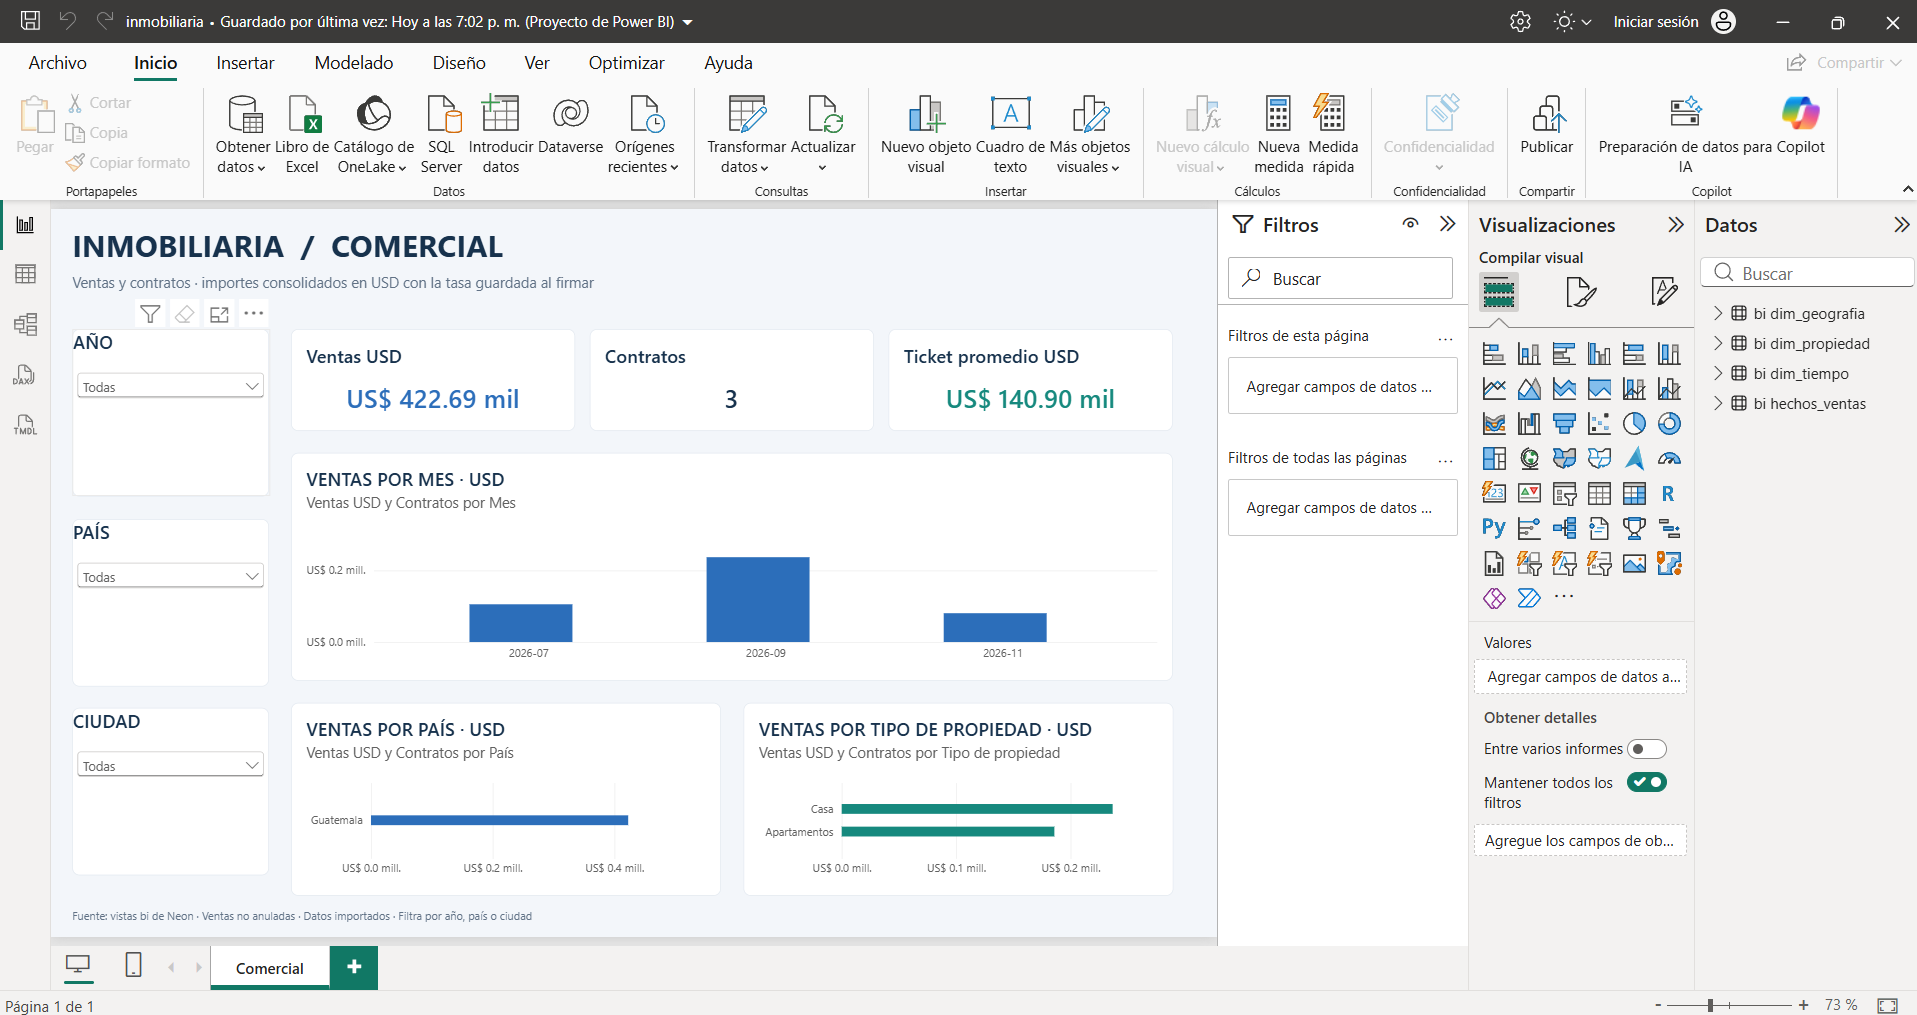

What the dashboard file says about the page in this screenshot:
{"tool":"powerbi","page":{"name":"Comercial","canvas":[1280,800],"ordinal":0},"visuals":[{"type":"textbox","box":[24,16,1120,50],"z":0},{"type":"textbox","box":[24,68,1216,40],"z":1000},{"type":"card","title":"Ventas USD","fields":{"Values":["bi hechos_ventas.Ventas USD"]},"box":[264,132,312,112],"z":2000},{"type":"card","title":"Contratos","fields":{"Values":["bi hechos_ventas.Contratos"]},"box":[592,132,312,112],"z":3000},{"type":"card","title":"Ticket promedio USD","fields":{"Values":["bi hechos_ventas.Ticket promedio USD"]},"box":[920,132,312,112],"z":4000},{"type":"clusteredColumnChart","title":"VENTAS POR MES · USD","fields":{"Category":["bi dim_tiempo.anio_mes"],"Y":["bi hechos_ventas.Ventas USD"]},"box":[263.5,255.2,968,250],"z":5000},{"type":"clusteredBarChart","title":"VENTAS POR PAÍS · USD","fields":{"Category":["bi dim_geografia.pais"],"Y":["bi hechos_ventas.Ventas USD"]},"box":[264,542,472,212],"z":6000},{"type":"clusteredBarChart","title":"VENTAS POR TIPO DE PROPIEDAD · USD","fields":{"Category":["bi dim_propiedad.tipo"],"Y":["bi hechos_ventas.Ventas USD"]},"box":[760,542,472,212],"z":7000},{"type":"slicer","title":"AÑO","fields":{"Values":["bi dim_tiempo.anio"]},"box":[24,132,216,184],"z":8000},{"type":"slicer","title":"PAÍS","fields":{"Values":["bi dim_geografia.pais"]},"box":[24,340,216,184],"z":9000},{"type":"slicer","title":"CIUDAD","fields":{"Values":["bi dim_geografia.ciudad"]},"box":[24,548,216,184],"z":10000},{"type":"textbox","box":[24,766,1216,26],"z":11000}]}

Visuals, with their boxes on the page's 1280x800 design canvas (x1, y1, x2, y2). These are canvas units, not pixel positions in the 1917x1015 screenshot, which may show the page scaled, cropped or inside an application window:
textbox: (x1=24, y1=16, x2=1144, y2=66)
textbox: (x1=24, y1=68, x2=1240, y2=108)
"Ventas USD" card: (x1=264, y1=132, x2=576, y2=244)
"Contratos" card: (x1=592, y1=132, x2=904, y2=244)
"Ticket promedio USD" card: (x1=920, y1=132, x2=1232, y2=244)
"VENTAS POR MES · USD" clusteredColumnChart: (x1=264, y1=255, x2=1232, y2=505)
"VENTAS POR PAÍS · USD" clusteredBarChart: (x1=264, y1=542, x2=736, y2=754)
"VENTAS POR TIPO DE PROPIEDAD · USD" clusteredBarChart: (x1=760, y1=542, x2=1232, y2=754)
"AÑO" slicer: (x1=24, y1=132, x2=240, y2=316)
"PAÍS" slicer: (x1=24, y1=340, x2=240, y2=524)
"CIUDAD" slicer: (x1=24, y1=548, x2=240, y2=732)
textbox: (x1=24, y1=766, x2=1240, y2=792)
